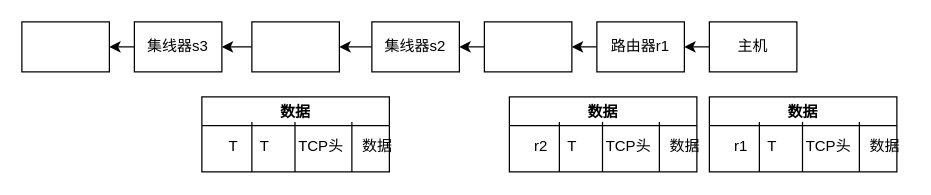
Some shapes in this 931 by 195 pixel diagram are drawn without their labels. The centre of each missing label's shape, as x and y in pixels:
目标主机T: point (65, 46)
路由器r2: point (295, 46)
集线器s1: point (527, 46)
